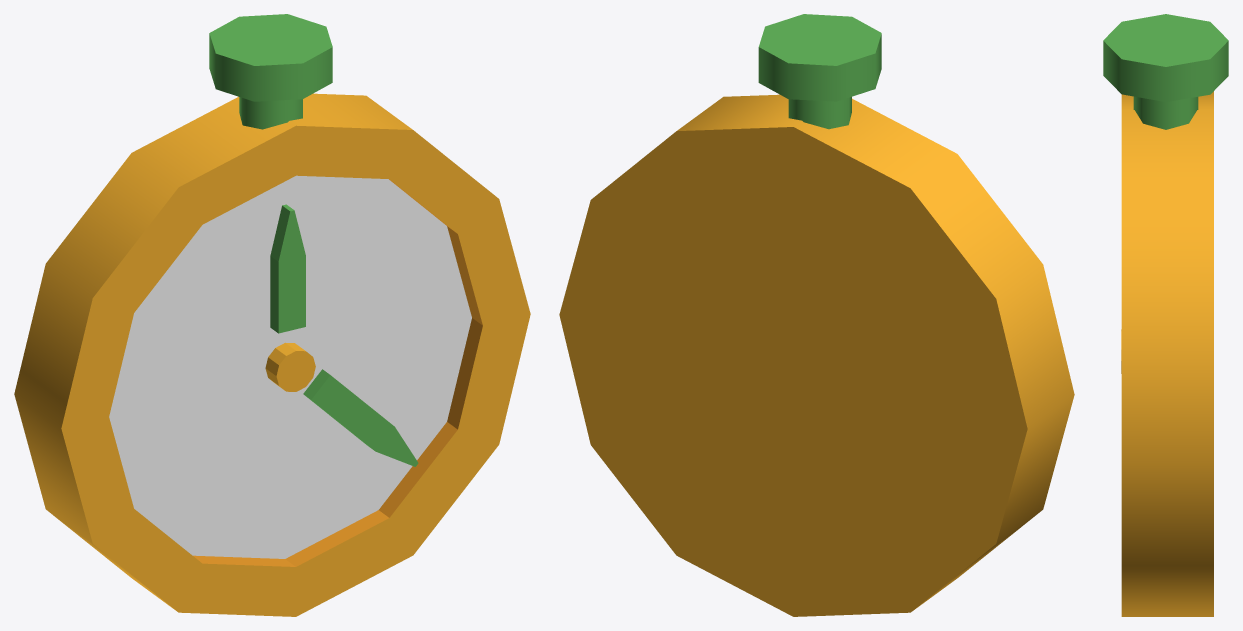
File: Clock.fbx
3 views of the same model, side by side, from view 1: azimuth 30°, elevation 25°; view 2: azimuth 150°, elevation 25°; view 3: azimuth 270°, elevation 25° (orthographic).
Visible parts, largest first — view 1: Cylinder004; view 2: Cylinder004; view 3: Cylinder004.
Part boxes in pixels (<box>): Cylinder004: <box>14,14,530,616</box>; Cylinder004: <box>559,14,1074,616</box>; Cylinder004: <box>1103,14,1228,616</box>.
Bounding box in the file's own units: 104 × 118 × 24.43.
Materials: 1 (1 with a texture image).
